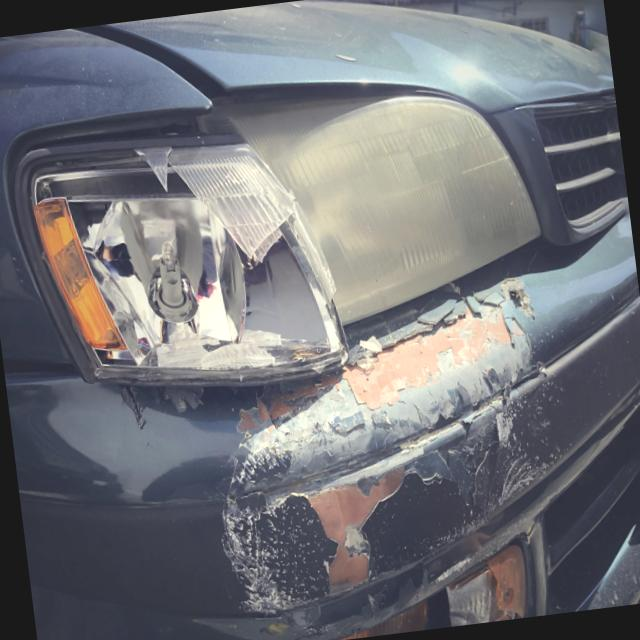Dechirure: (502, 277, 536, 312)
Phare abime: (28, 111, 339, 405)
Rayure: (193, 293, 574, 625)
